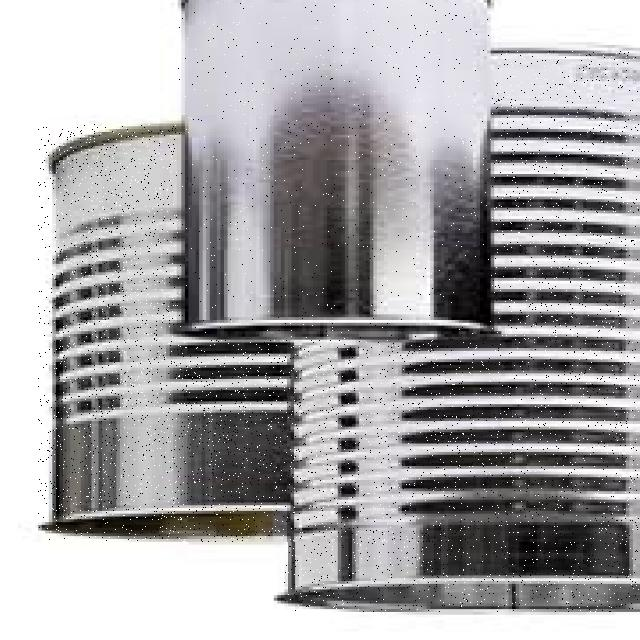metal: (285, 51, 640, 612), (39, 124, 298, 541), (178, 0, 494, 339)
